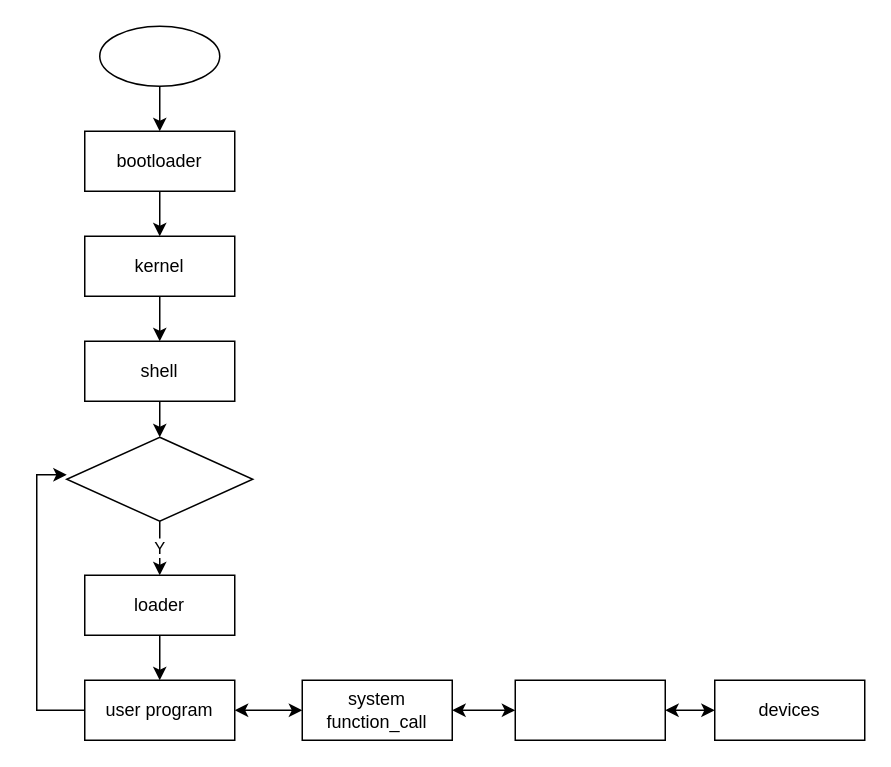
Some shapes in this 891 by 767 pixel diagram are drawn without their labels. The shapes that lost their labels are listed below. From the top down, each one's centre as x and y in pixels, then its label:
pixel 159 55: start
pixel 159 478: user program?
pixel 589 709: drivers
